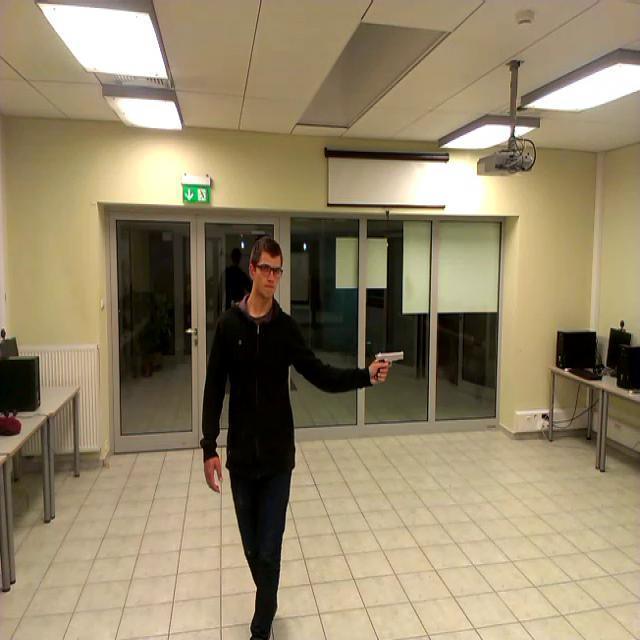Gun: (374, 350, 404, 380)
